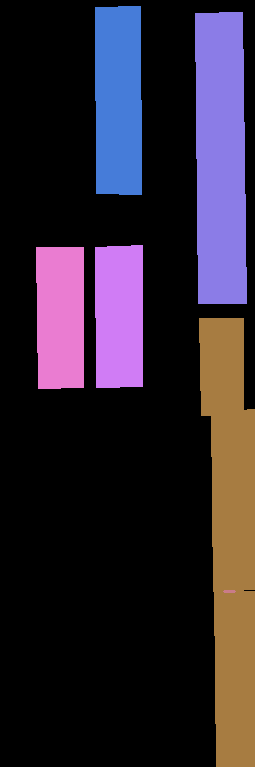parkingspot: (195, 12, 246, 303), (95, 6, 141, 194), (211, 409, 255, 591), (214, 591, 255, 767), (95, 245, 142, 387), (36, 247, 83, 388), (199, 318, 243, 415)
